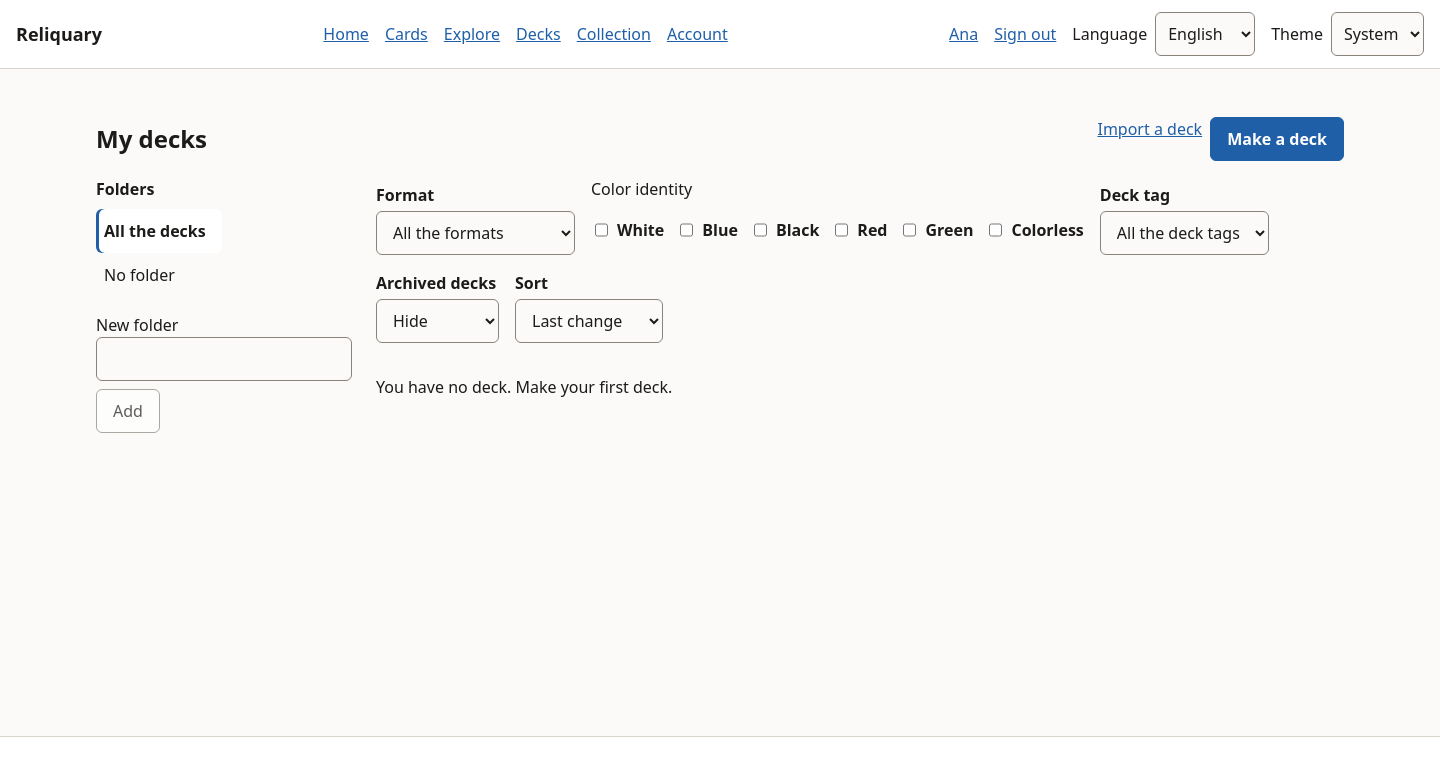
Test case: decks › makes a deck from the deck list and opens it
Expected: the text "You have no deck. Make your first deck." is shown, [376,376,672,398]
Click the button "Make a deck". click: (1277, 139)
box: [1210,117,1344,161]
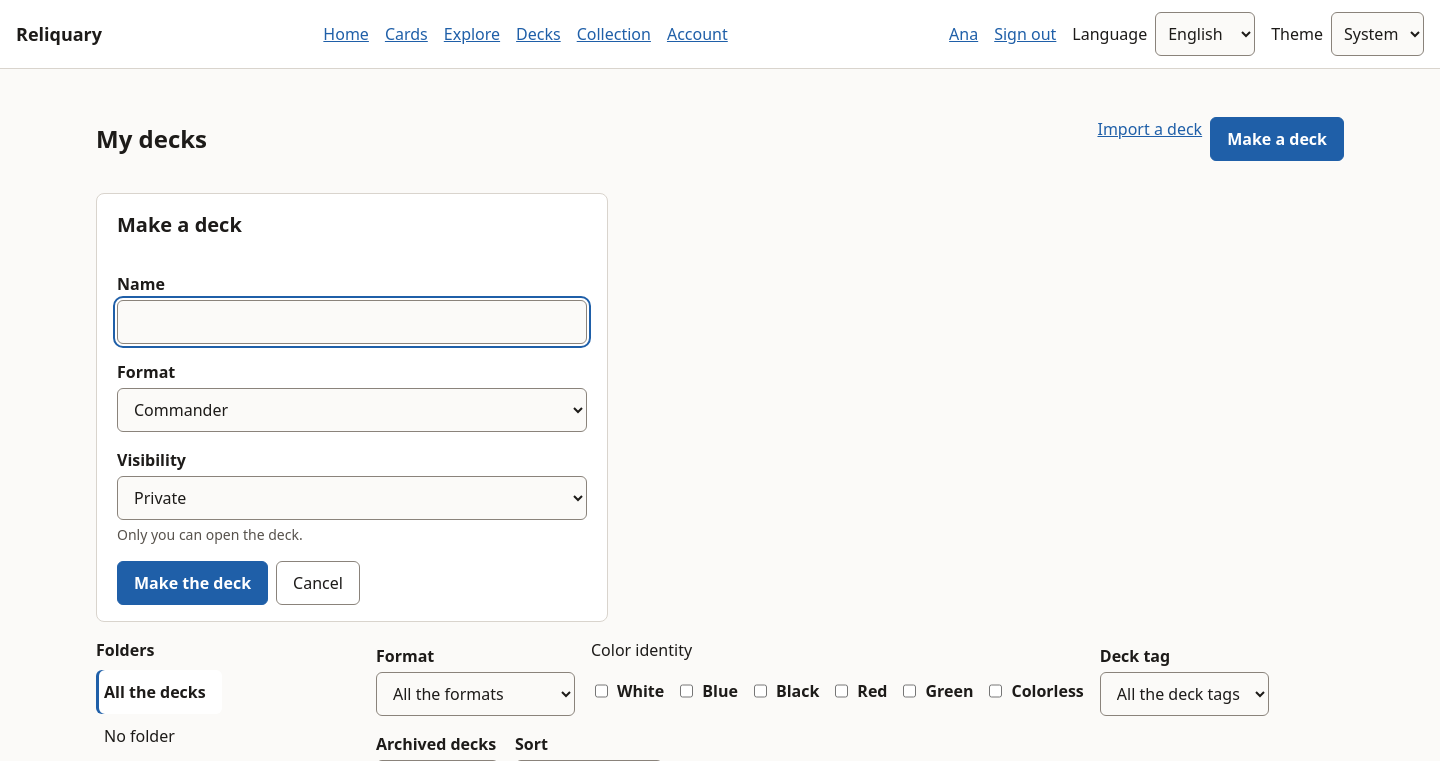
Type "Atraxa superfriends" into the field labelled "Name". click: (352, 322)
box: [117,300,587,344]
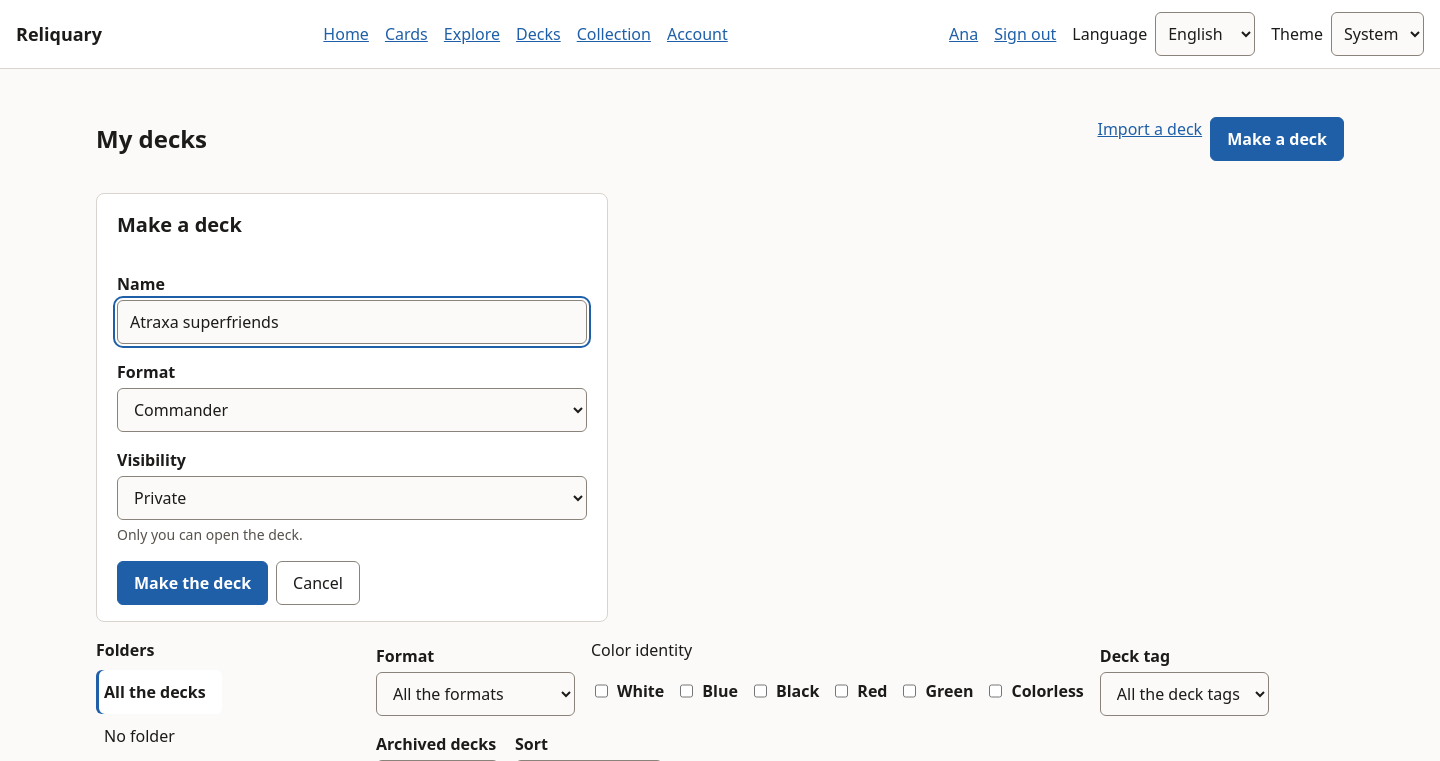
Select "Unlisted" in the dropdown labelled "Visibility". click: (352, 498)
box: [117,476,587,520]
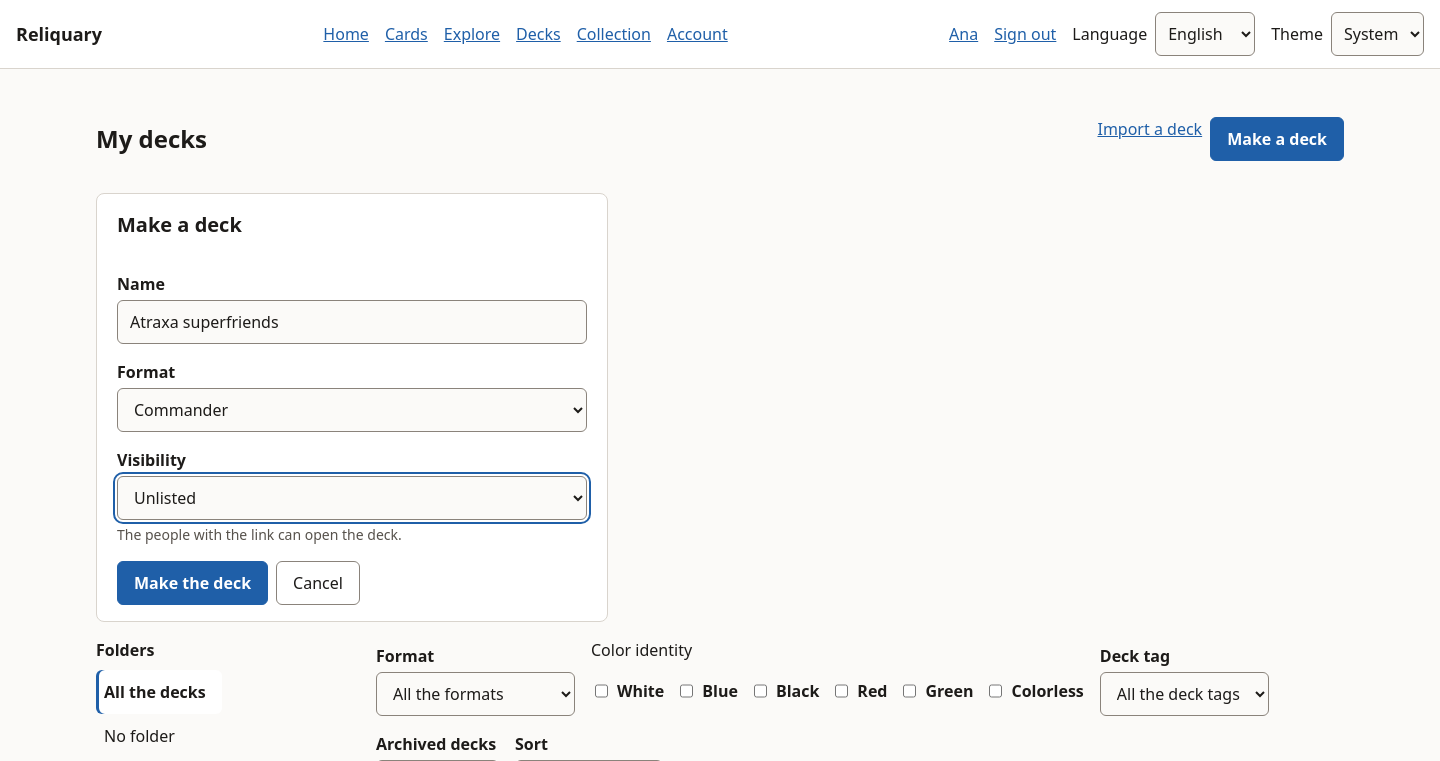
Click the button "Make the deck". click: (193, 583)
box: [117,561,268,605]
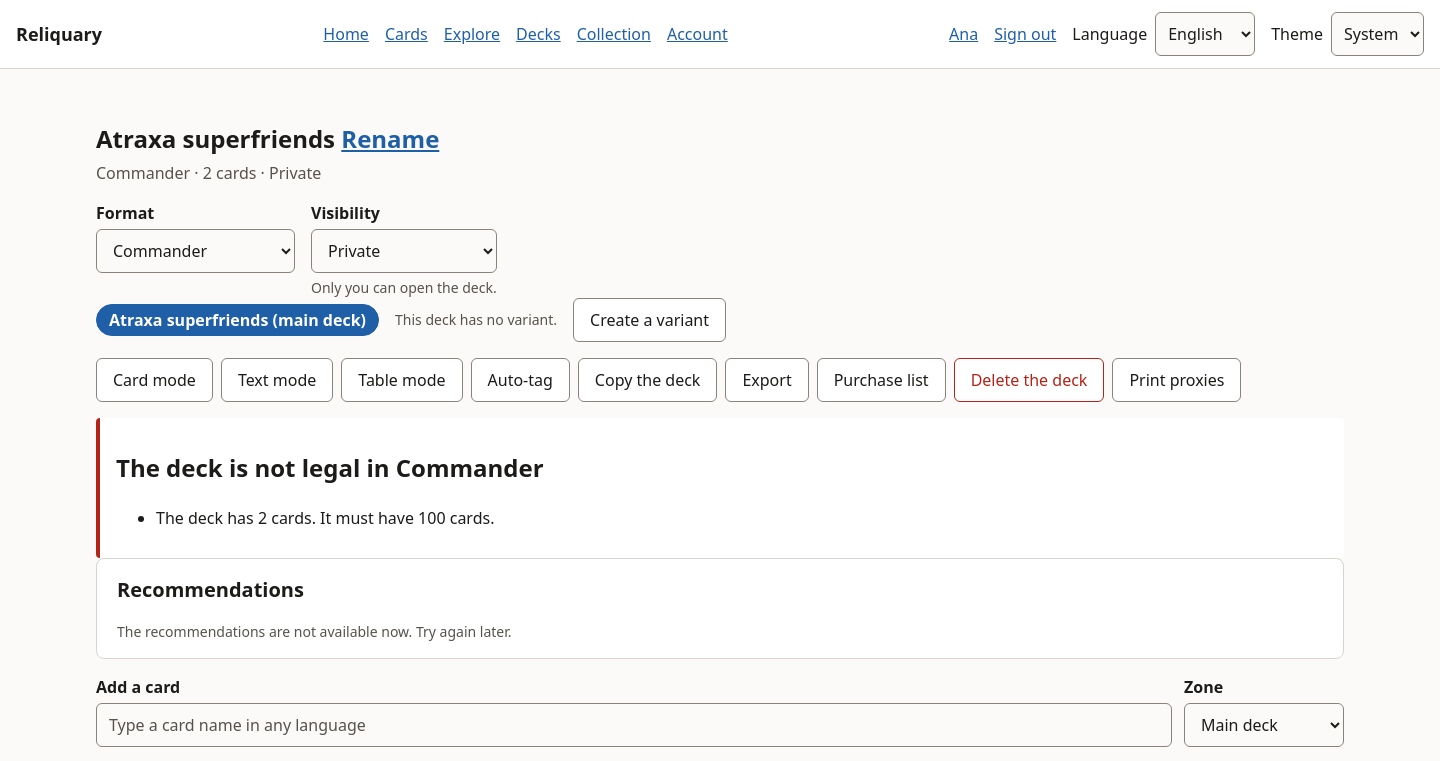
Expected: the heading "Atraxa superfriends Rename" is shown, [96,121,439,157]
